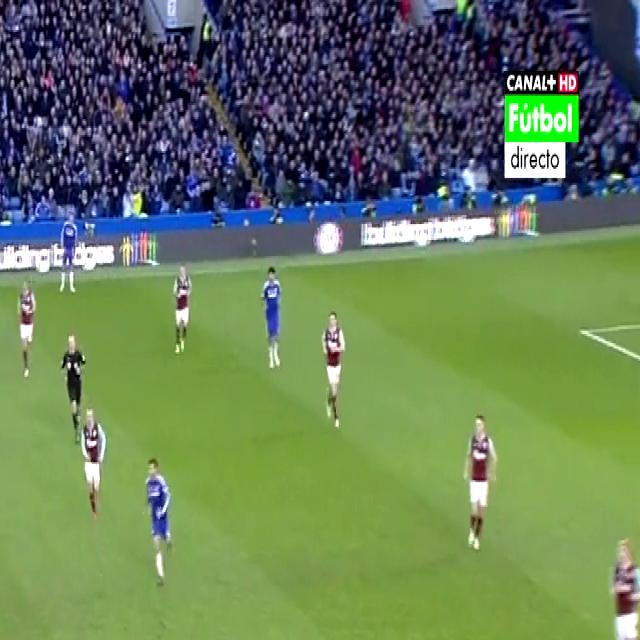referee: (57, 329, 92, 440)
soccer-player: (458, 398, 503, 554), (133, 450, 176, 594), (318, 303, 353, 439), (256, 255, 292, 380), (76, 405, 110, 527), (604, 524, 639, 640), (170, 254, 199, 360), (12, 274, 39, 384), (52, 207, 83, 300)
